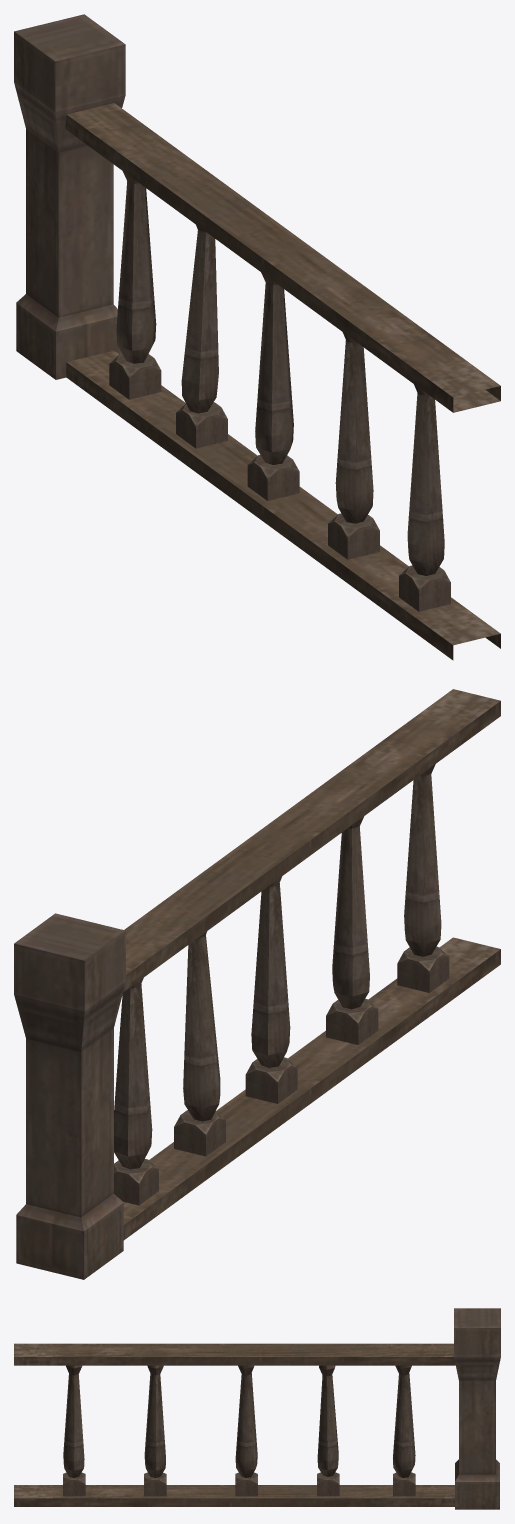
File: bg_lut_lucastle_houseinfence01a_sm.FBX
3 views of the same model, one above another, from view 1: azimuth 30°, elevation 25°; view 2: azimuth 150°, elevation 25°; view 3: azimuth 270°, elevation 25° (orthographic). The views are drawn at different scales.
Visible parts, largest first — view 1: bg_lut_lucastle_houseinfence01a_sm; view 2: bg_lut_lucastle_houseinfence01a_sm; view 3: bg_lut_lucastle_houseinfence01a_sm.
Boxes of the visible parts, bbox=[...] form: bg_lut_lucastle_houseinfence01a_sm: bbox=[14, 14, 500, 660]; bg_lut_lucastle_houseinfence01a_sm: bbox=[14, 689, 500, 1279]; bg_lut_lucastle_houseinfence01a_sm: bbox=[14, 1308, 500, 1509].
Size of the model in its own units: 16 by 69.3 by 168.
